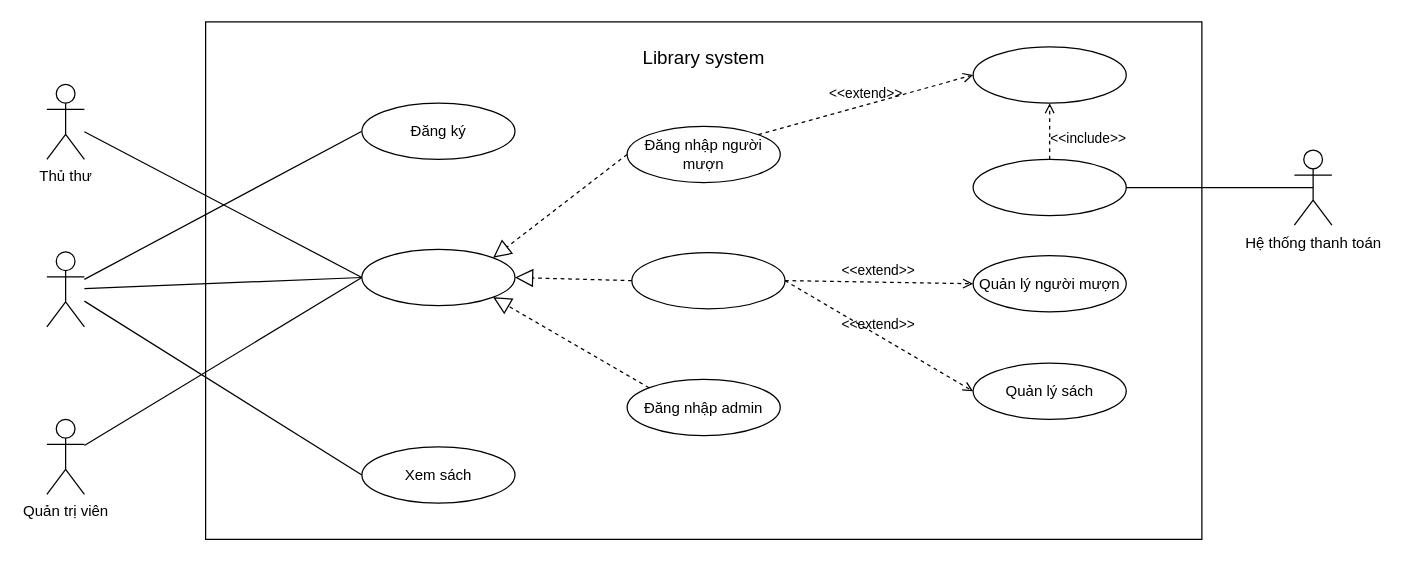
The diagram is 1403 pixels wide and 561 high, and some of its shapes have lost their labels. Here are the shapes that lost their labels. From the top down, the centre of each, then its label:
At [1049,74]: "mượn sách".
At [1049,187]: "Thanh toán".
At [65,289]: "Người mượn".
At [438,277]: "Đăng nhập".
At [708,280]: "Đăng nhập thủ thư".
